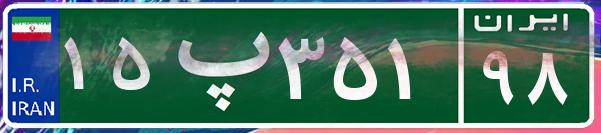1: (385, 28, 445, 110), (57, 26, 110, 107)
3: (273, 28, 330, 110)
5: (330, 28, 385, 110), (110, 28, 158, 105)
8: (525, 38, 570, 115)
9: (475, 38, 525, 113)
پ: (158, 15, 273, 115)
